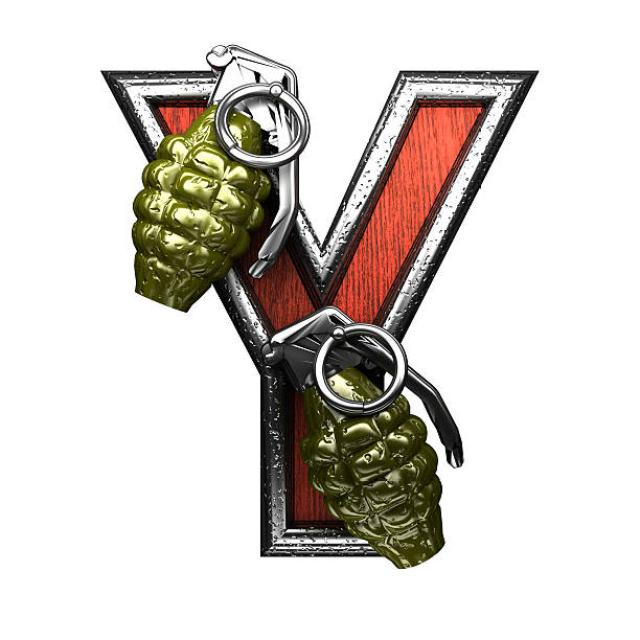grenade: (264, 307, 470, 574), (126, 40, 303, 318)
